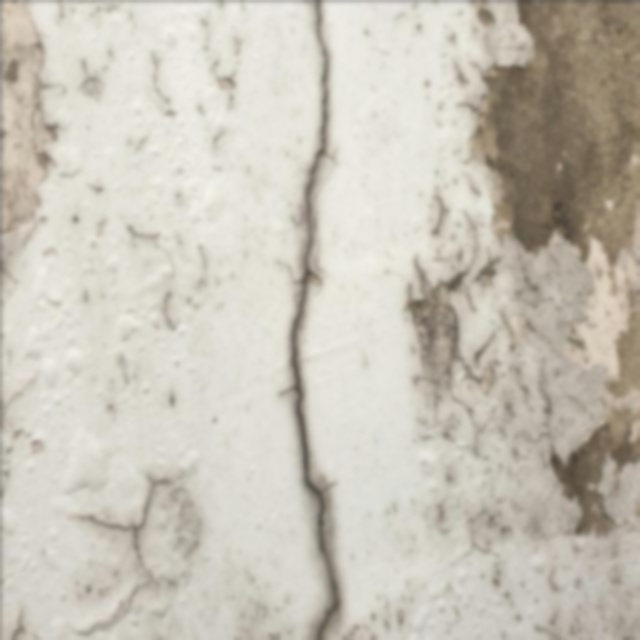SurfaceCrack: (243, 0, 390, 640)
